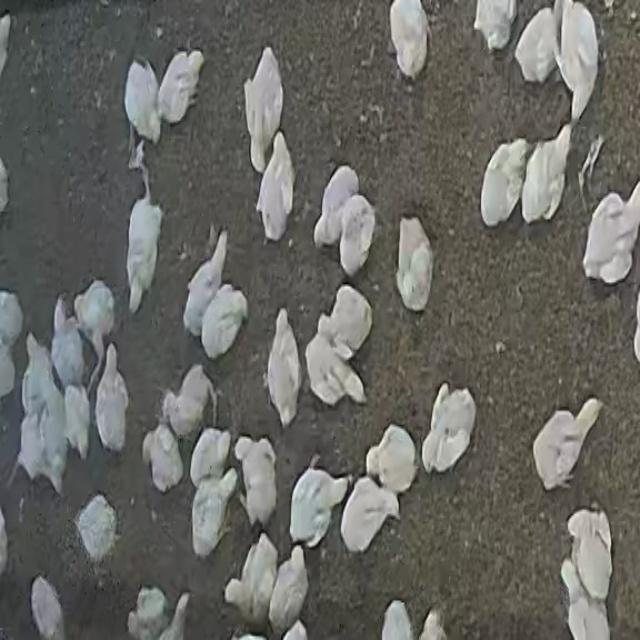chicken: (534, 393, 610, 489), (583, 178, 640, 284), (304, 321, 366, 409), (288, 465, 348, 549), (244, 47, 284, 172), (557, 1, 599, 118), (126, 179, 163, 310), (421, 385, 475, 474), (524, 126, 570, 228), (185, 224, 227, 334), (340, 478, 399, 554), (190, 466, 238, 556), (266, 309, 302, 428), (158, 362, 218, 432), (567, 508, 612, 600), (234, 436, 278, 530), (230, 535, 276, 624), (257, 134, 294, 241), (313, 167, 360, 251), (94, 344, 129, 454), (514, 6, 560, 84), (396, 216, 433, 312), (156, 50, 204, 124), (74, 280, 116, 364), (268, 546, 308, 633), (366, 424, 416, 493), (480, 140, 520, 226), (200, 287, 247, 359), (50, 297, 86, 391), (389, 0, 432, 78), (124, 56, 161, 144), (326, 285, 372, 354), (16, 330, 56, 408), (340, 195, 376, 278), (76, 495, 123, 558), (144, 424, 184, 494), (189, 426, 231, 490), (30, 577, 65, 636), (63, 384, 90, 458)
